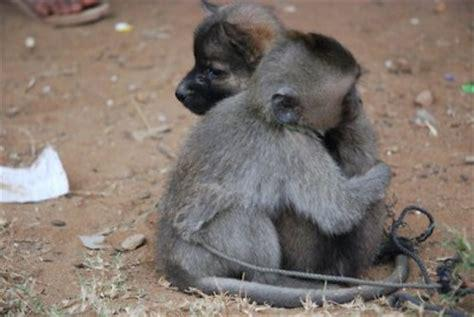dog: (175, 1, 384, 281)
monkey: (157, 32, 410, 307)
